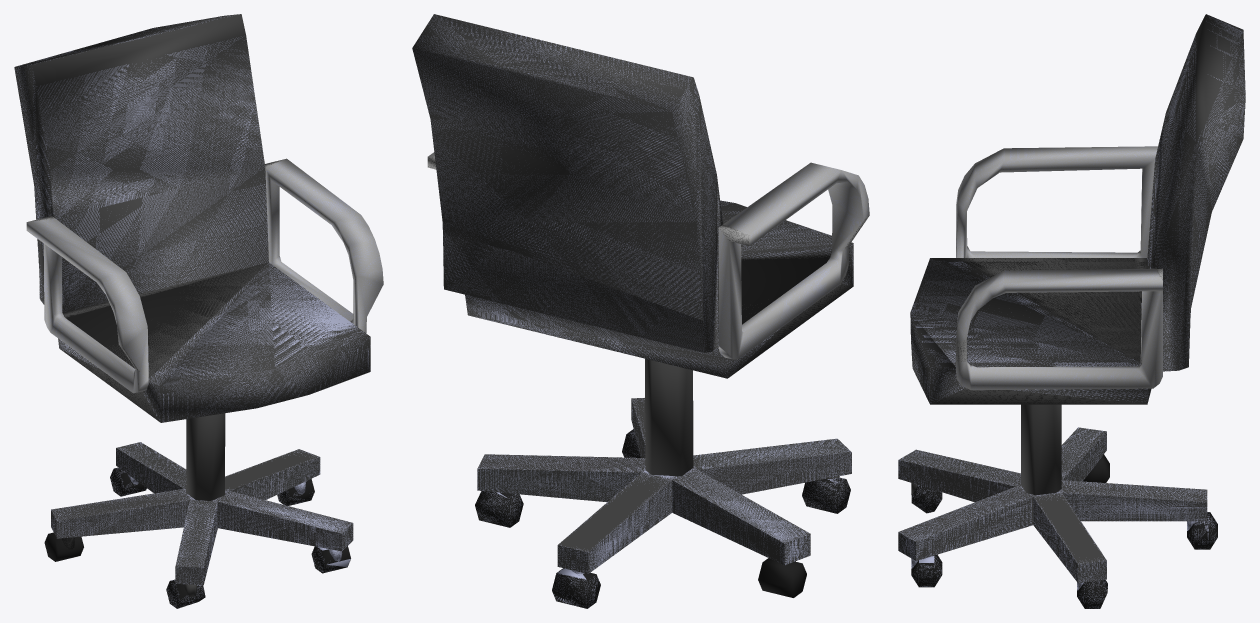
Rendered from Chair.fbx.
3 renders of one model, left to right at view 1: azimuth 30°, elevation 25°; view 2: azimuth 150°, elevation 25°; view 3: azimuth 270°, elevation 25°, orthographic. The views are drawn at different scales.
Visible parts, largest first — view 1: Group8, Group1, Group5, Group2, Group6, Group3, Group4, Group7; view 2: Group8, Group1, Group5, Group4, Group2, Group7, Group3; view 3: Group8, Group1, Group5, Group4, Group6, Group7, Group3.
Part boxes in pixels (bbox=[...]): Group8: bbox=[14, 14, 383, 422]; Group1: bbox=[51, 442, 353, 584]; Group5: bbox=[186, 413, 225, 500]; Group2: bbox=[44, 532, 83, 561]; Group6: bbox=[311, 546, 350, 573]; Group3: bbox=[166, 579, 205, 608]; Group4: bbox=[110, 467, 146, 496]; Group7: bbox=[277, 479, 314, 505]; Group8: bbox=[412, 14, 869, 378]; Group1: bbox=[477, 398, 851, 573]; Group5: bbox=[645, 358, 693, 476]; Group4: bbox=[552, 568, 600, 608]; Group2: bbox=[758, 558, 806, 597]; Group7: bbox=[475, 491, 523, 527]; Group3: bbox=[802, 476, 850, 513]; Group8: bbox=[910, 14, 1245, 404]; Group1: bbox=[898, 427, 1207, 583]; Group5: bbox=[1021, 404, 1061, 495]; Group4: bbox=[1187, 512, 1217, 549]; Group6: bbox=[911, 554, 942, 587]; Group7: bbox=[1077, 579, 1107, 608]; Group3: bbox=[911, 483, 942, 513].
Bounding box in the file's own units: 0.6427 × 1.02 × 0.6715.
